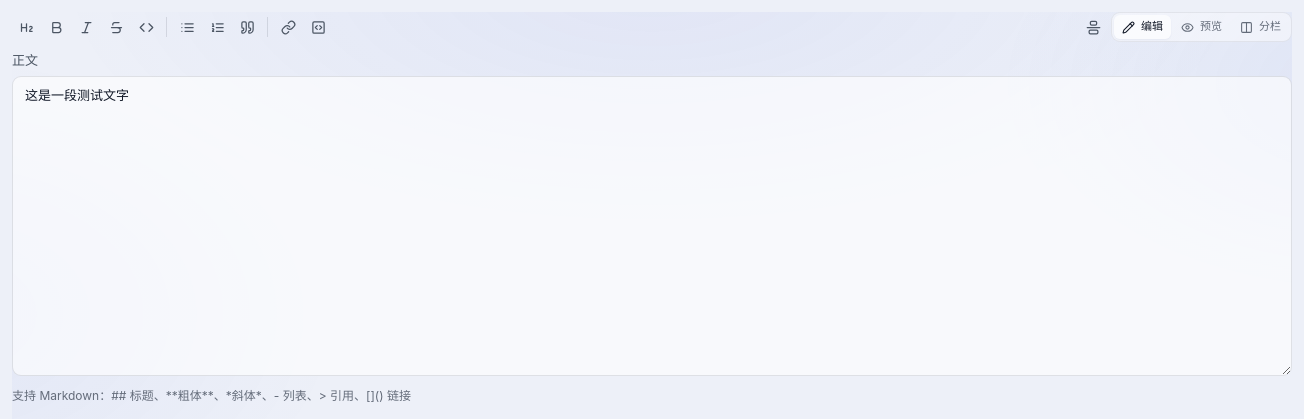
Scenario: MarkdownEditor › 有选区时按「加粗」包住选中文字，焦点与选区都留在正文里
The image size is (1304, 419).
Click the button named "加粗".
click(56, 27)  # box [42, 13, 70, 41]
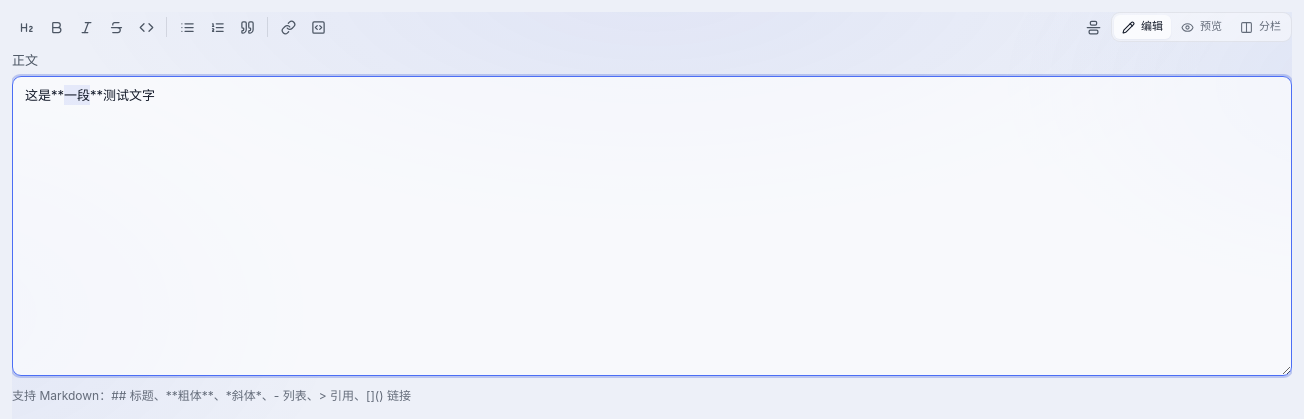
Check: the text box labelled "正文" holds "这是**一段**测试文字"
